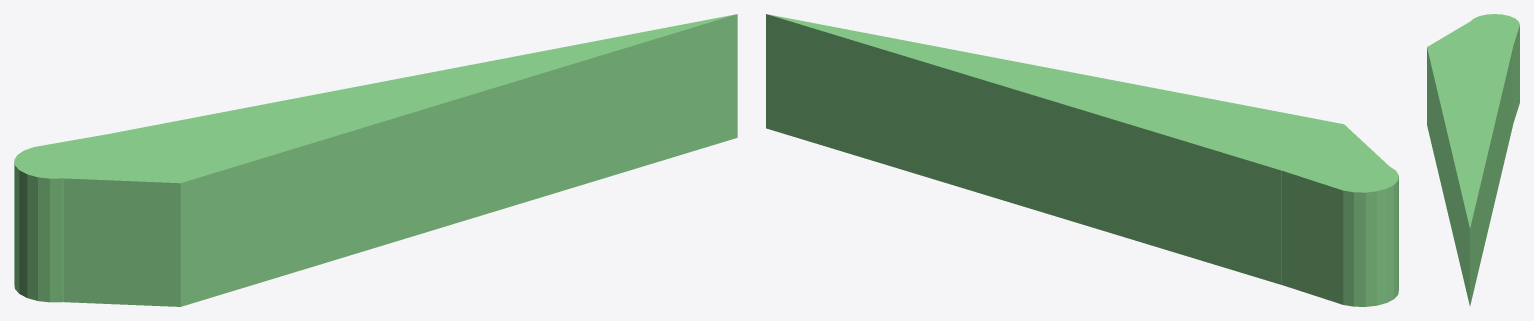
Rendered from paddle.fbx.
3 renders of one model, left to right at view 1: azimuth 30°, elevation 25°; view 2: azimuth 150°, elevation 25°; view 3: azimuth 270°, elevation 25°, orthographic. The views are drawn at different scales.
Parts seen in each view (by area): view 1: obj_0; view 2: obj_0; view 3: obj_0.
Boxes of the visible parts, x1,y1,x2,y2 form: obj_0: [14, 14, 737, 306]; obj_0: [766, 14, 1398, 306]; obj_0: [1427, 14, 1519, 306].
Bounding box in the file's own units: 591 × 100 × 108.
